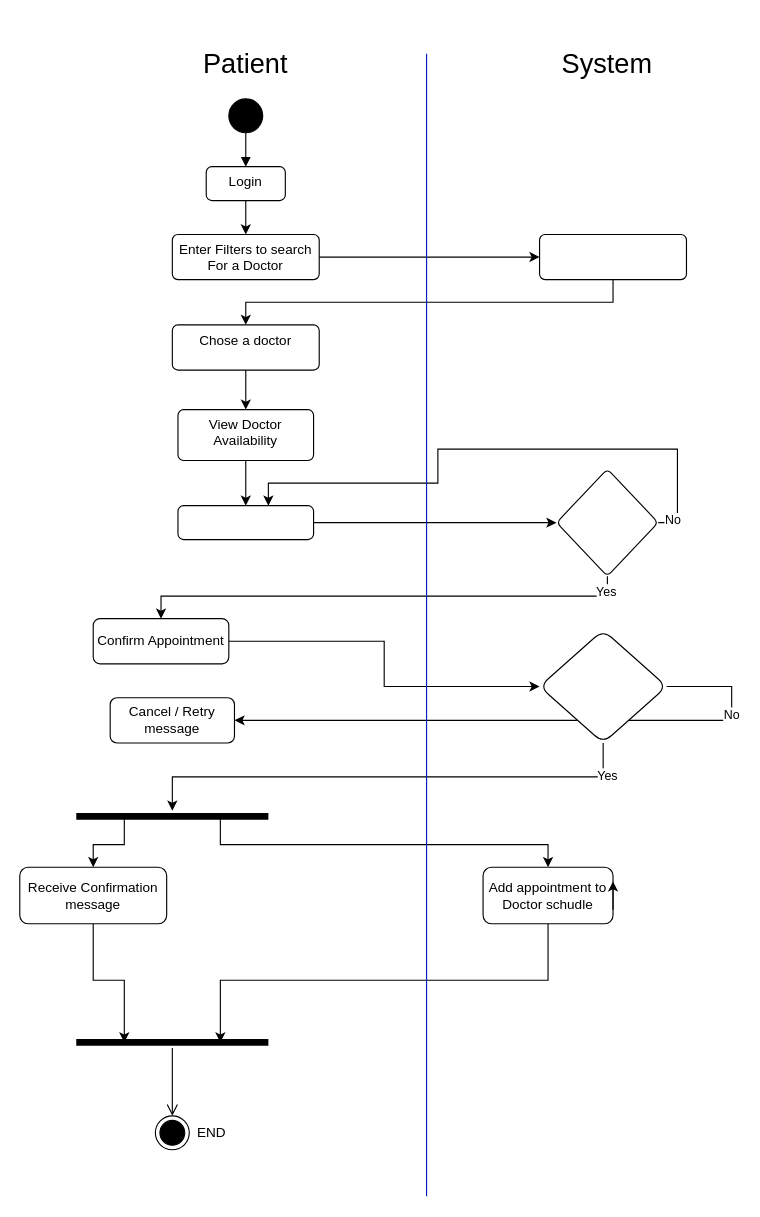
Some shapes in this 760 by 1217 pixel diagram are drawn without their labels. The centre of each missing label's shape, as x and y in pixels:
"Appointment Confirmed" belongs at pixel 602 686.
"Chose a time slot" belongs at pixel 245 522.
"Is Time Slot Available" belongs at pixel 606 522.
"Show Doctors according to filters" belongs at pixel 612 256.
